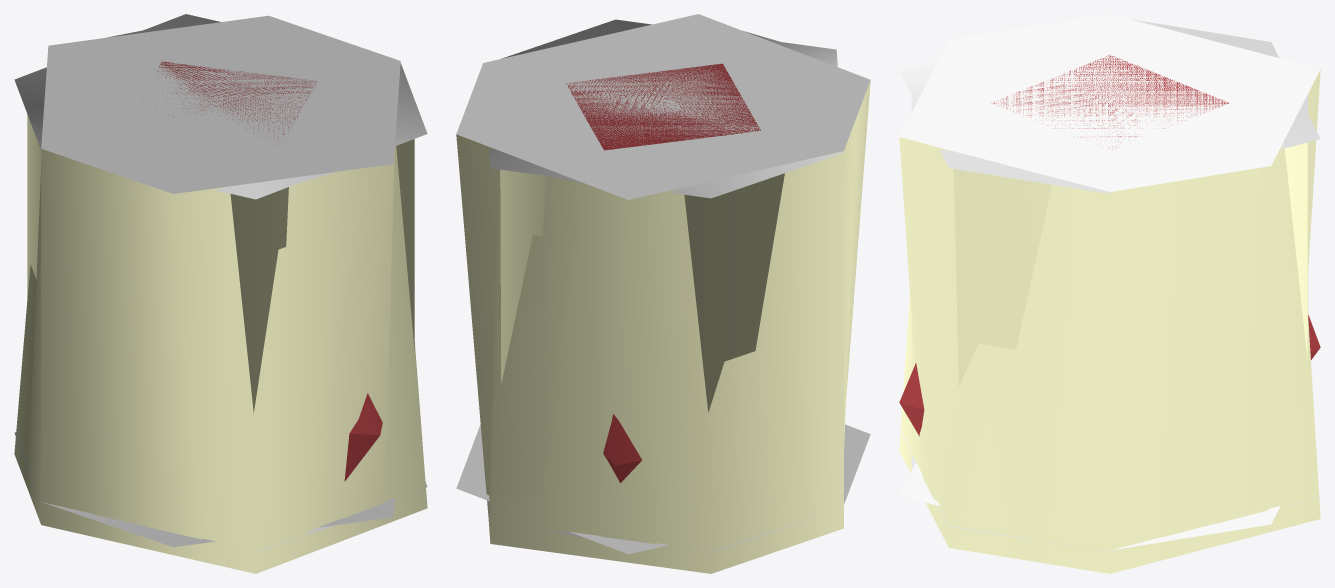
3 renders of one model, left to right at view 1: azimuth 30°, elevation 25°; view 2: azimuth 150°, elevation 25°; view 3: azimuth 270°, elevation 25°, orthographic.
Size of the model in its own units: 65535 by 65535 by 65535.
